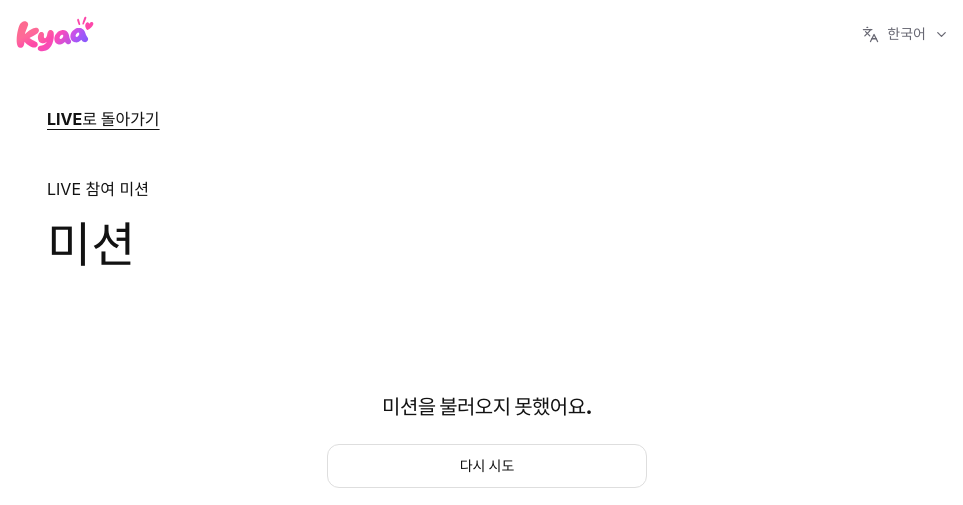
Test: distinguishes failed load from empty and retries without submitting
This screenshot has width=963, height=505.
expect the heading "미션을 불러오지 못했어요." is shown: met, box [382,395,592,420]
expect the text "지금 참여할 수 있는 미션이 없어요." is not shown: met
Click the button "다시 시도": point(487, 466) [327,444,647,488]
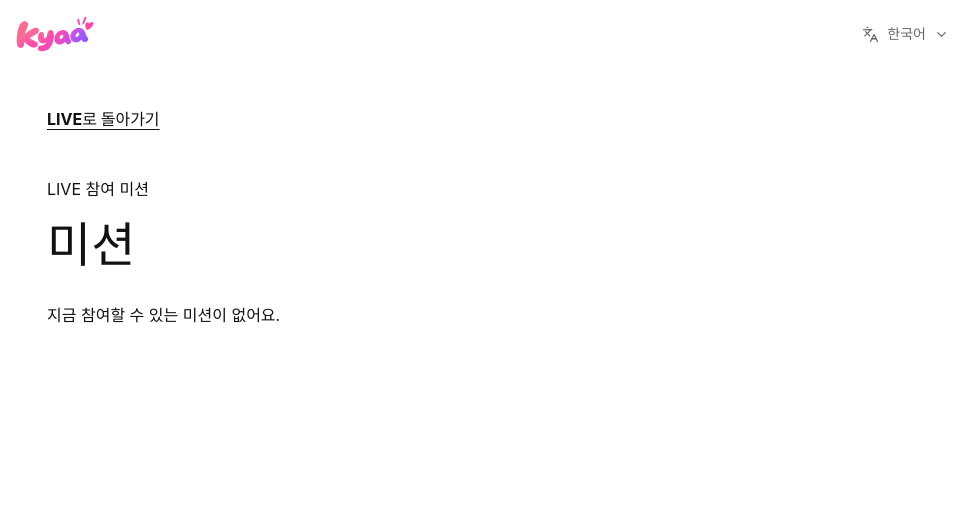
expect the text "지금 참여할 수 있는 미션이 없어요." is shown: met, box [47,305,280,325]
